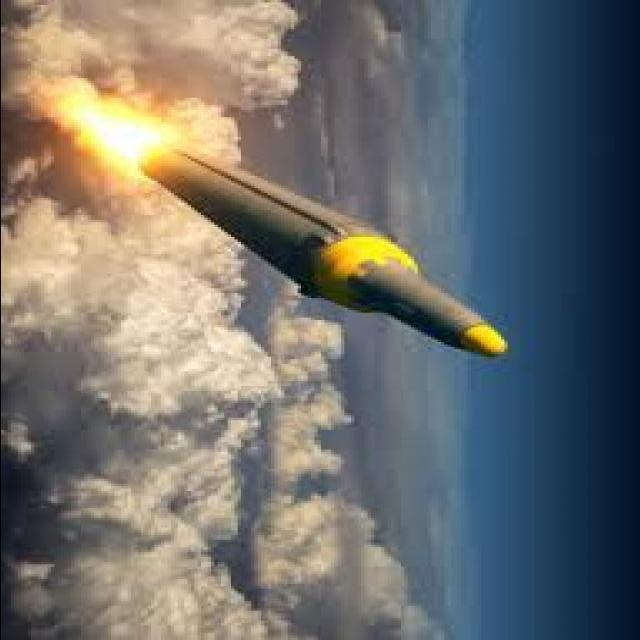Missile: (120, 135, 522, 364)
